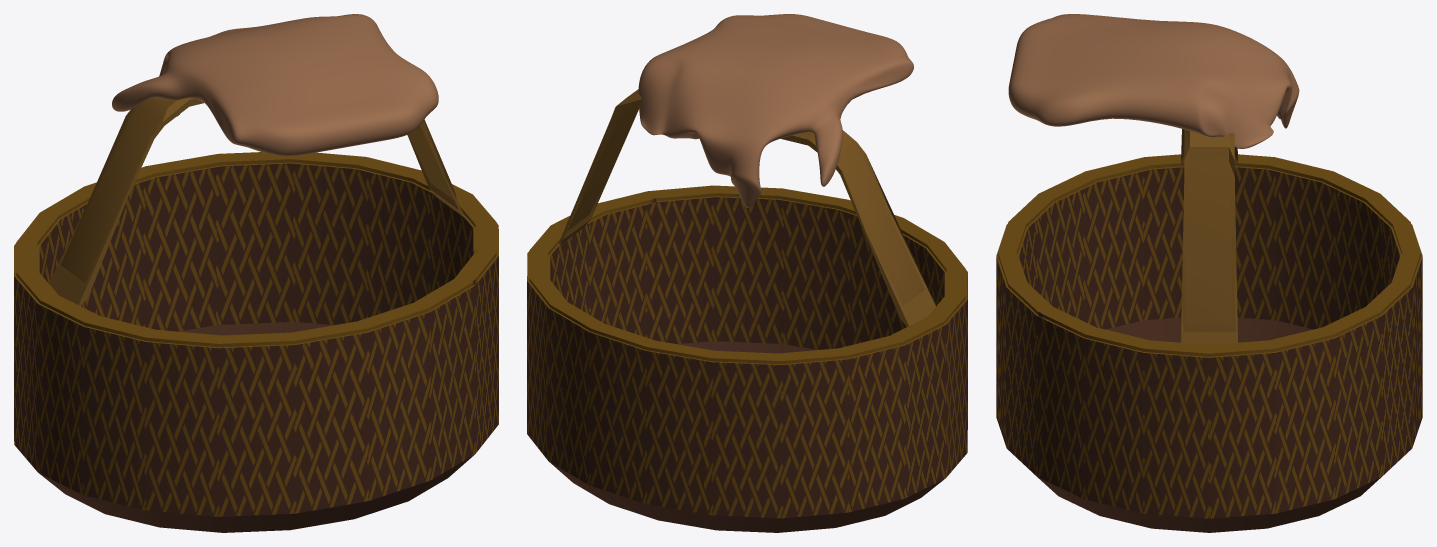
The model's file is mano_con_canasta.fbx.
The picture shows the model from 3 angles, left to right: view 1: azimuth 30°, elevation 25°; view 2: azimuth 150°, elevation 25°; view 3: azimuth 270°, elevation 25°; orthographic projection. The views are drawn at different scales.
Visible parts, largest first — view 1: CANASTA, MANO; view 2: CANASTA, MANO; view 3: CANASTA, MANO.
Boxes of the visible parts, x1,y1,x2,y2 form: CANASTA: (14,98,498,532); MANO: (112,14,438,156); CANASTA: (527,89,967,532); MANO: (638,14,913,207); CANASTA: (996,129,1422,532); MANO: (1008,14,1299,148).
Size of the model in its own units: 10.7 by 9.81 by 9.48.
Materials: 3 (1 with a texture image).
